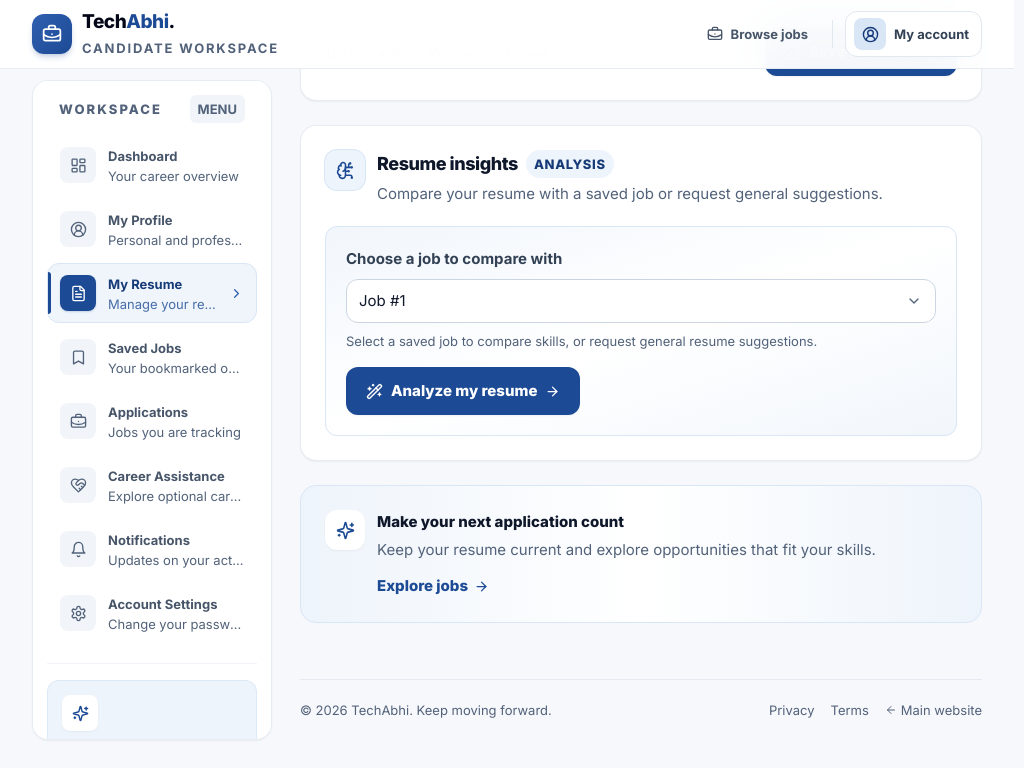
Test: candidate area › resume: analysis shows found / missing skills, suggestions and the disclaimer
(page scrolled)
Click the button "Analyze my resume" at (463, 391), box [346,367,580,415]
(page scrolled)
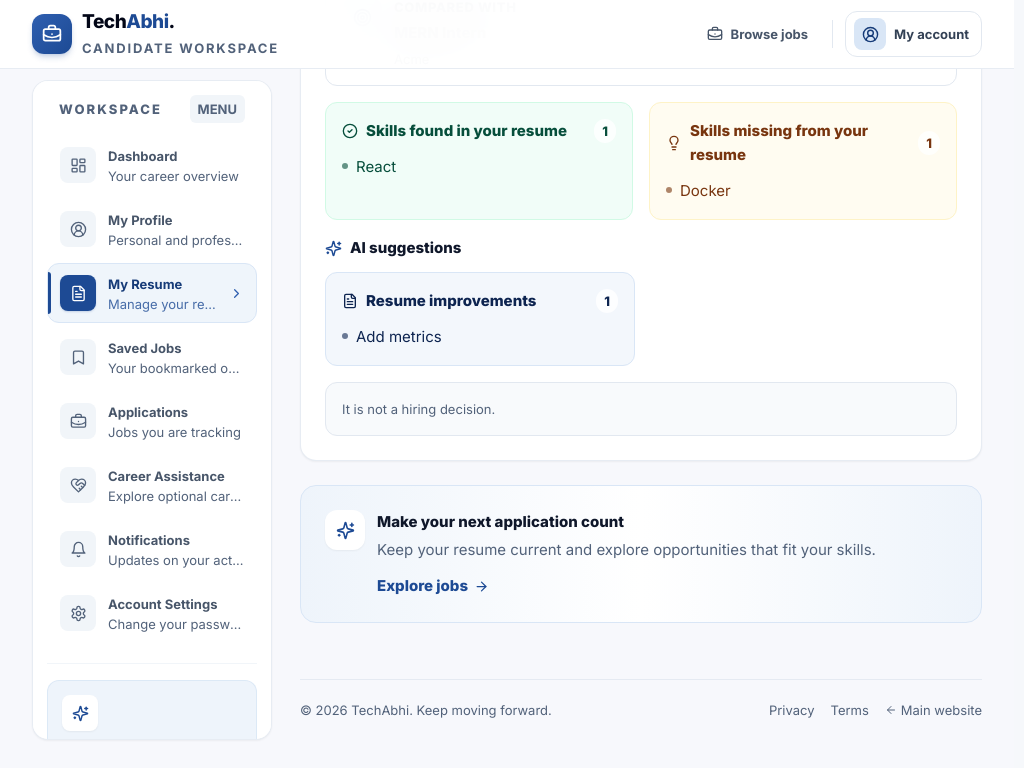
Check: the text "Skills found in your resume" is shown, box [366,119,586,143]
Check: the text "Docker" is shown, box [680,179,731,203]
Check: the text "Add metrics" is shown, box [356,325,442,349]
